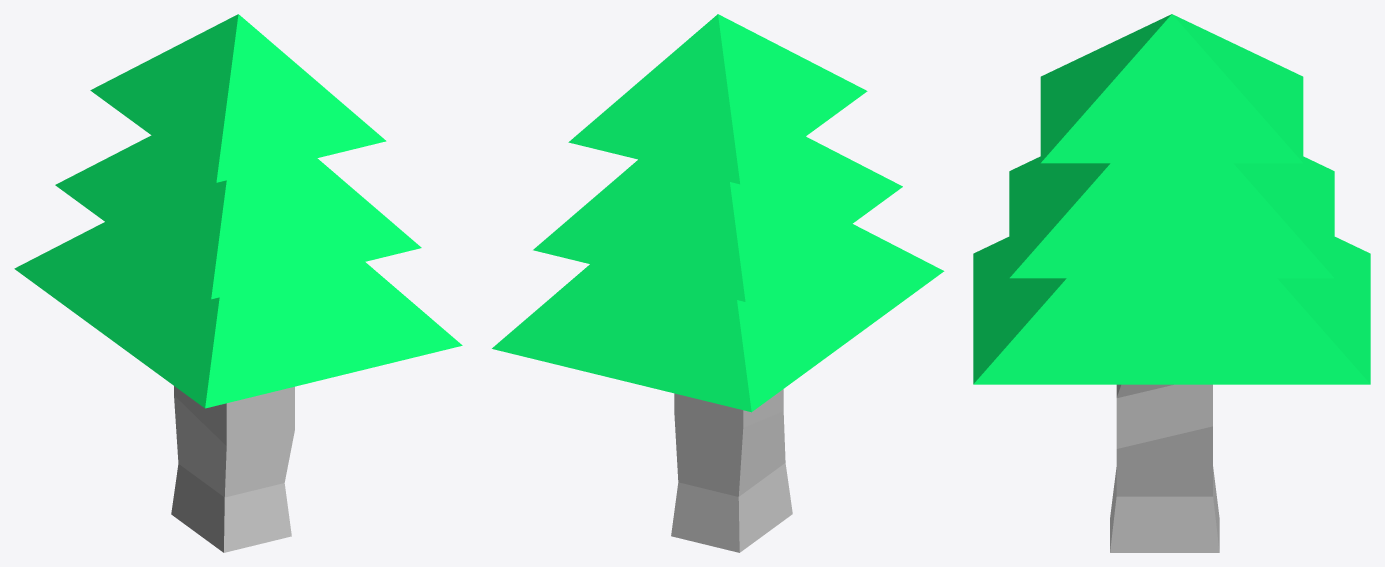
The model's file is tree1.FBX.
3 renders of one model, left to right at view 1: azimuth 30°, elevation 25°; view 2: azimuth 150°, elevation 25°; view 3: azimuth 270°, elevation 25°, orthographic. The views are drawn at different scales.
Visible parts, largest first — view 1: Pyramid001, Pyramid002, Pyramid003, Box001; view 2: Pyramid001, Pyramid002, Pyramid003, Box001; view 3: Pyramid001, Pyramid002, Pyramid003, Box001.
Part boxes in pixels (x1,y1,x2,y2): Pyramid001: [14, 222, 462, 408]; Pyramid002: [55, 135, 421, 299]; Pyramid003: [90, 14, 386, 182]; Box001: [171, 386, 294, 552]; Pyramid001: [492, 224, 944, 412]; Pyramid002: [533, 136, 902, 301]; Pyramid003: [568, 14, 867, 184]; Box001: [671, 389, 792, 552]; Pyramid001: [973, 237, 1370, 384]; Pyramid002: [1009, 156, 1334, 278]; Pyramid003: [1040, 14, 1303, 163]; Box001: [1110, 384, 1219, 552].
Bounding box in the file's own units: 66.94 × 126 × 85.91.
